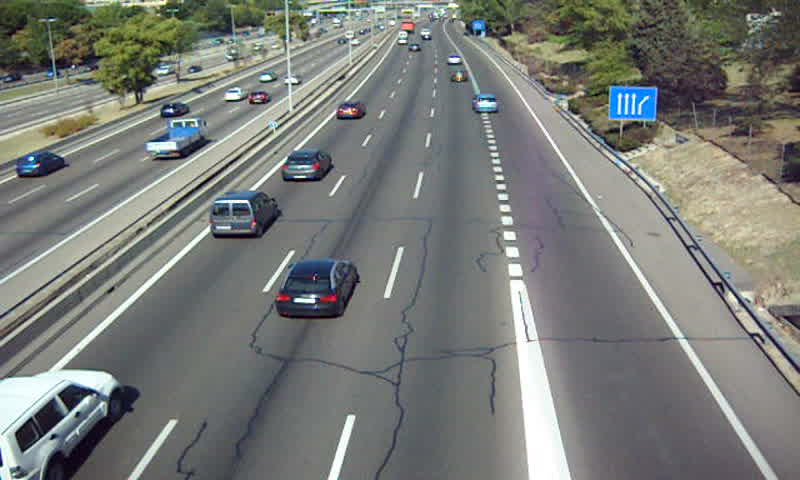car: (275, 259, 358, 317), (280, 151, 332, 183), (337, 100, 365, 122), (471, 94, 499, 113), (448, 69, 468, 83)
van: (1, 369, 116, 480), (211, 190, 276, 239)
